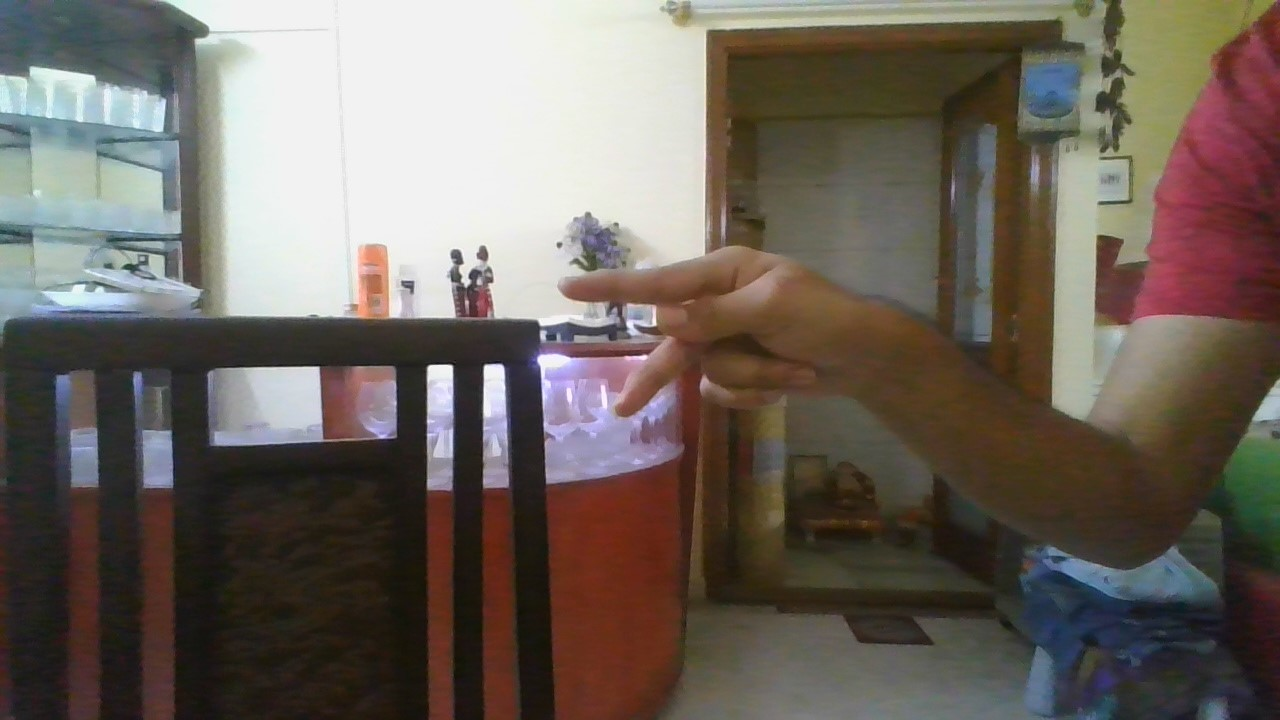p: (551, 238, 832, 422)
